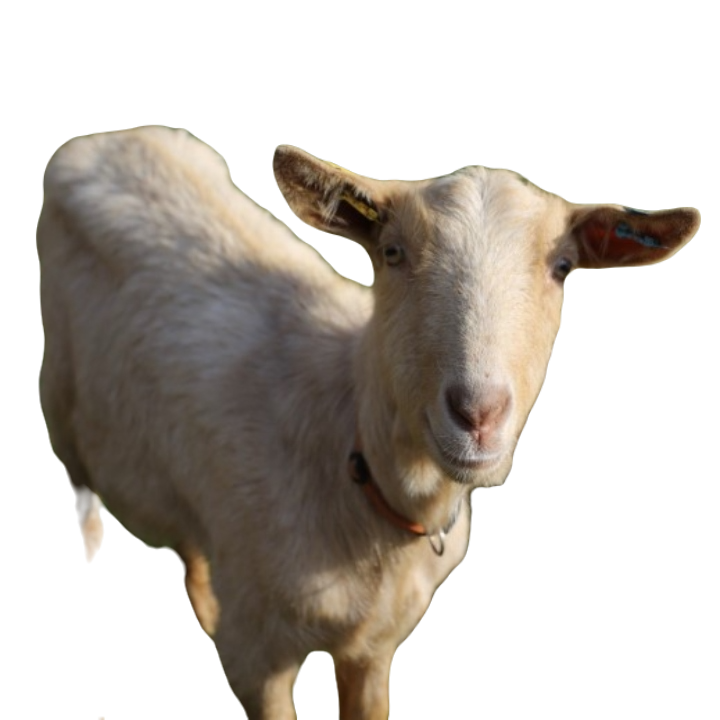Goat: (36, 127, 709, 719)
